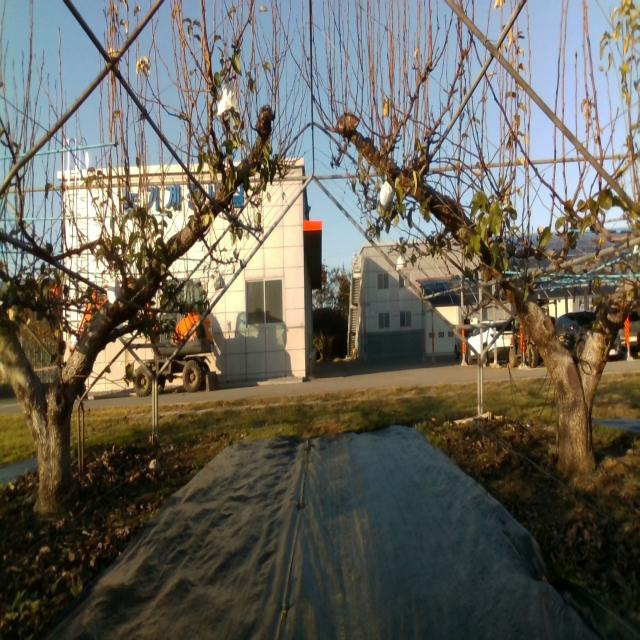pearbags: (217, 80, 239, 116), (380, 180, 395, 208), (108, 272, 120, 304), (213, 270, 225, 288)
